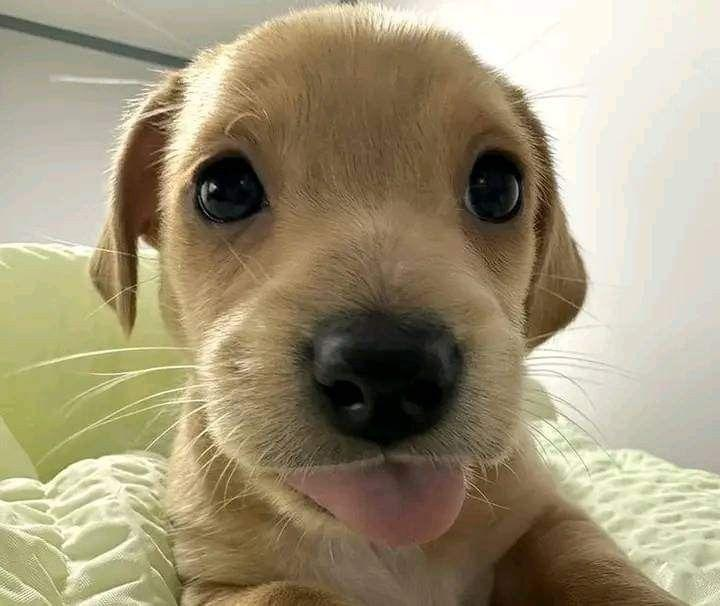puppy-dog: (89, 3, 684, 605)
